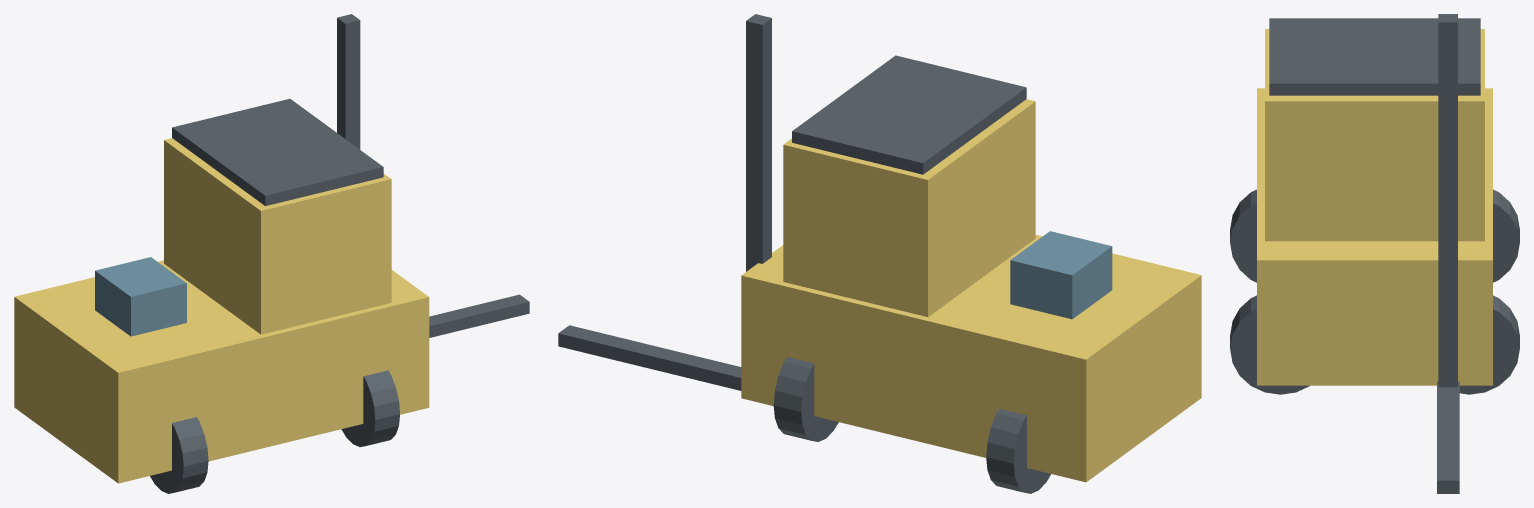
File: forklift_lod1.glb
3 views of the same model, side by side, from view 1: azimuth 30°, elevation 25°; view 2: azimuth 150°, elevation 25°; view 3: azimuth 270°, elevation 25° (orthographic). The views are drawn at different scales.
Visible parts, largest first — view 1: part_0, part_1, part_8, part_9, part_2, part_7, part_6, part_3; view 2: part_0, part_1, part_8, part_9, part_2, part_3, part_5, part_4; view 3: part_0, part_1, part_8, part_2, part_3, part_7, part_5, part_4, part_6.
Boxes of the visible parts, x1,y1,x2,y2 form: part_0: [14, 260, 429, 483]; part_1: [164, 138, 391, 334]; part_8: [172, 98, 383, 205]; part_9: [95, 257, 186, 336]; part_2: [337, 14, 360, 149]; part_7: [341, 370, 399, 446]; part_6: [150, 417, 208, 493]; part_3: [429, 294, 529, 337]; part_0: [741, 235, 1201, 482]; part_1: [783, 99, 1035, 316]; part_8: [792, 55, 1026, 174]; part_9: [1010, 231, 1112, 319]; part_2: [746, 14, 771, 271]; part_3: [558, 325, 741, 390]; part_5: [773, 357, 838, 441]; part_4: [986, 408, 1050, 493]; part_0: [1257, 88, 1492, 385]; part_1: [1265, 29, 1484, 241]; part_8: [1269, 18, 1480, 95]; part_2: [1438, 14, 1457, 387]; part_3: [1437, 381, 1459, 493]; part_7: [1230, 295, 1309, 394]; part_5: [1459, 295, 1519, 394]; part_4: [1493, 189, 1519, 282]; part_6: [1230, 189, 1256, 282].
Size of the model in its own units: 3.94 by 2.72 by 1.78.
